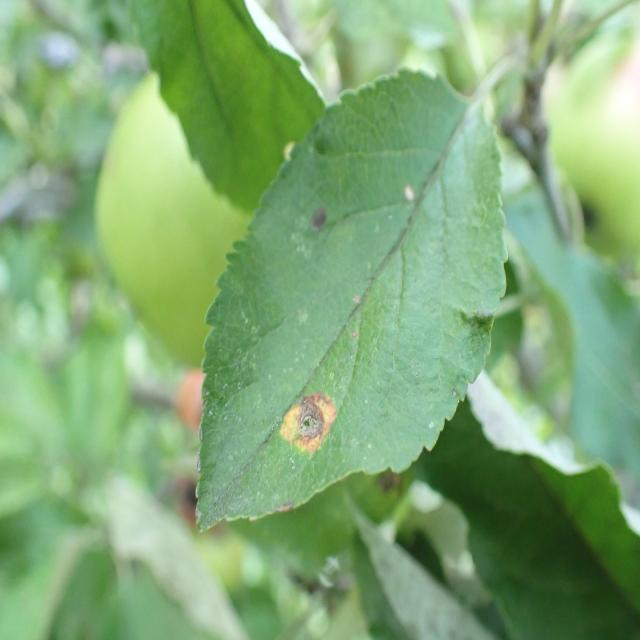frog-eye-leaf-spot: (194, 70, 510, 534)
